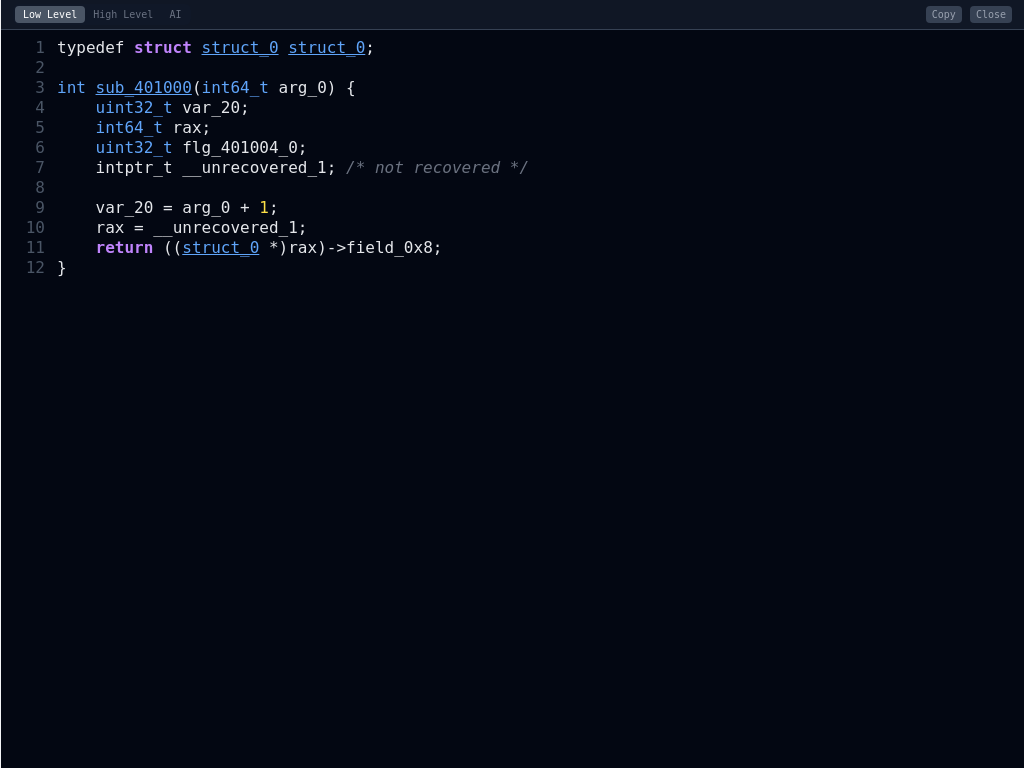
Test case: DecompileView variable rename — what the menu offers › offers 'Rename var_20…' beside the comment entries on a body line
The image size is (1024, 768).
Right-click the 2nd text "var_20".
right_click(124, 208)  # box [96, 198, 153, 217]
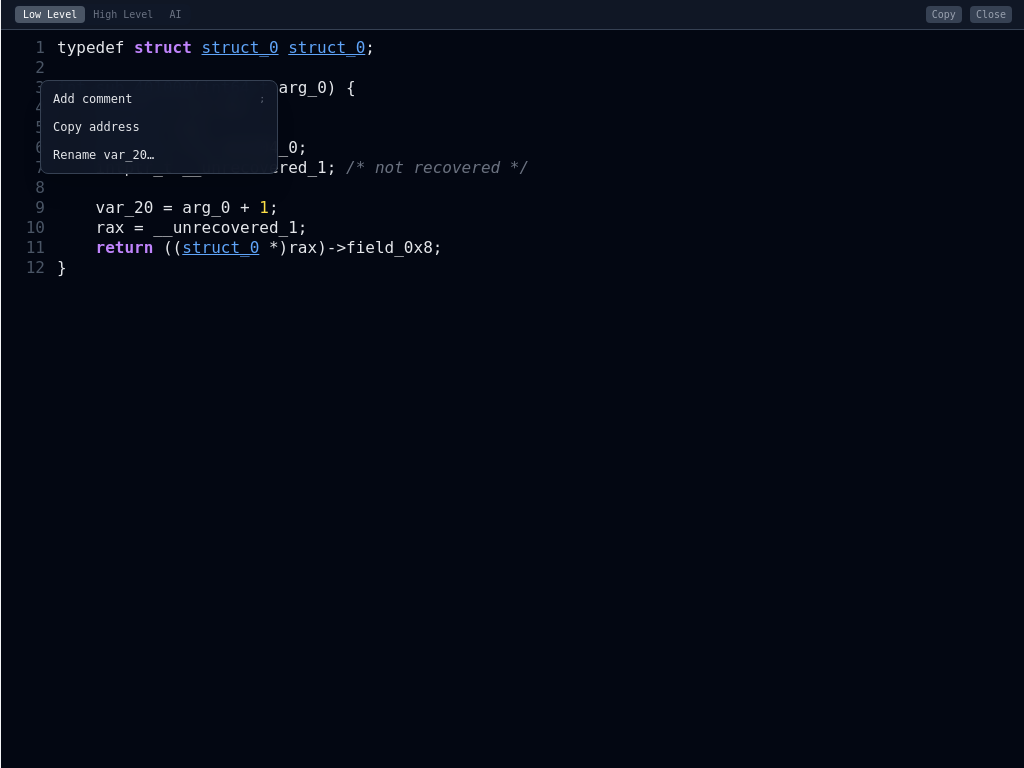
Expected: the button "Rename var_20…" is shown, [41, 141, 277, 169]
Expected: the text "Add comment" is shown, [53, 91, 132, 107]
Expected: the button "Copy address" is shown, [41, 113, 277, 141]
